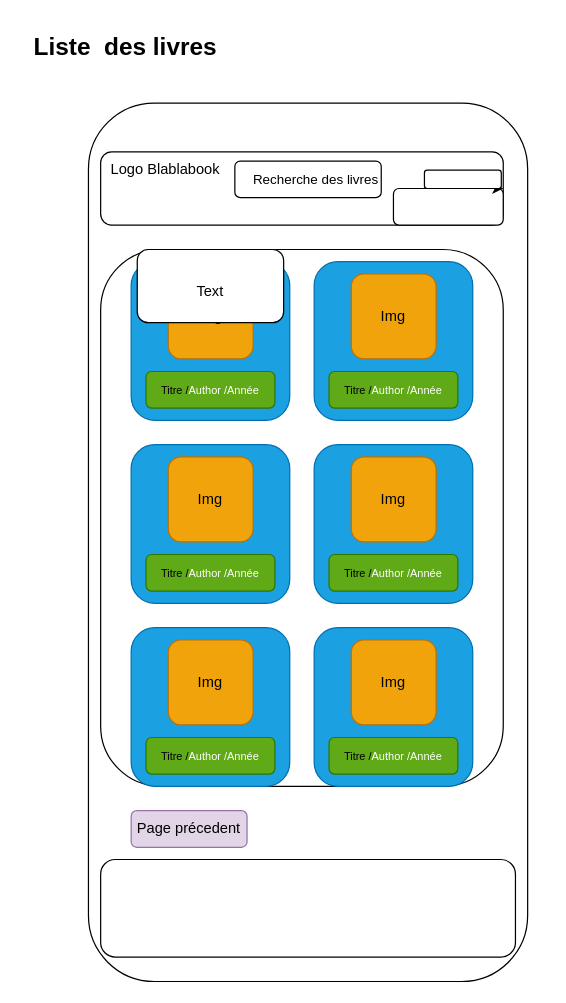
This 566x1003 diagram has some shape labels left out. Here are the shapes that lost their labels. From the top down, the centre of each, then its label:
(x=462, y=178): Inscription
(x=447, y=206): Connection
